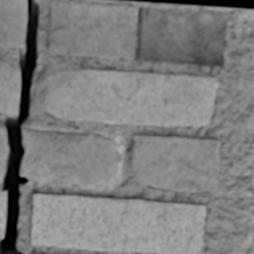brick: (30, 193, 204, 253), (44, 70, 217, 126), (48, 1, 137, 59), (136, 9, 225, 66), (131, 134, 219, 191), (0, 0, 28, 52), (0, 63, 20, 116), (0, 191, 6, 239), (0, 251, 17, 253)
broken_brick: (20, 129, 118, 184), (0, 124, 8, 177)
crack: (0, 1, 38, 253)
